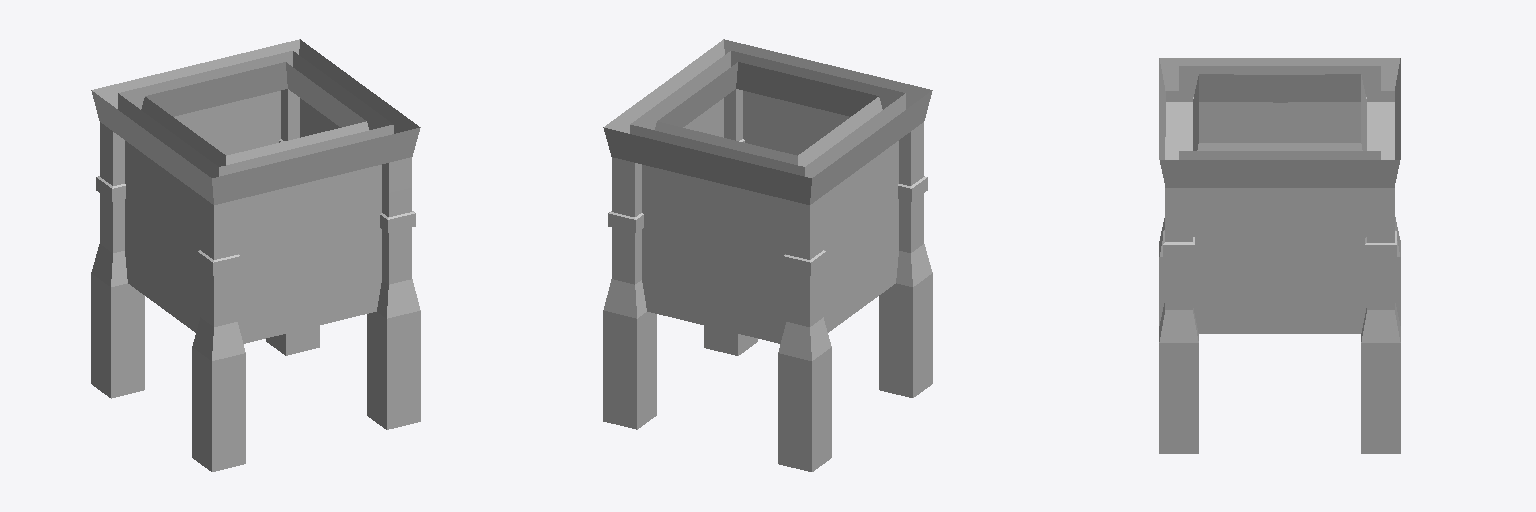
Rendered from wall02.obj.
3 renders of one model, left to right at view 1: azimuth 30°, elevation 25°; view 2: azimuth 150°, elevation 25°; view 3: azimuth 270°, elevation 25°, orthographic.
Parts seen in each view (by area): view 1: Cube_Cube.002, Cube_Cube.003; view 2: Cube_Cube.002, Cube_Cube.003; view 3: Cube_Cube.002, Cube_Cube.003.
Boxes of the visible parts, x1,y1,x2,y2 form: Cube_Cube.002: [91, 39, 420, 471]; Cube_Cube.003: [118, 51, 393, 343]; Cube_Cube.002: [603, 39, 932, 471]; Cube_Cube.003: [630, 51, 905, 343]; Cube_Cube.002: [1159, 58, 1400, 453]; Cube_Cube.003: [1179, 66, 1380, 333].
Size of the model in its own units: 1.19 by 1.61 by 1.2.